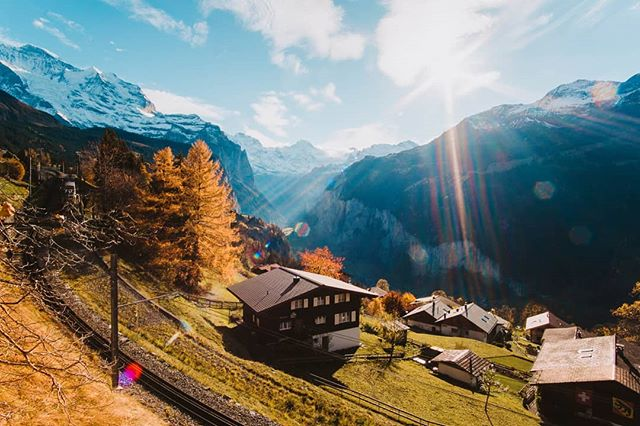building: (226, 265, 378, 355), (537, 332, 640, 426), (404, 291, 497, 348), (437, 344, 490, 389)
mountain: (325, 35, 640, 189), (1, 8, 259, 171), (245, 119, 397, 179)
sky: (31, 1, 640, 96)
train track: (54, 294, 274, 426)
tree: (1, 179, 80, 413), (177, 146, 241, 299), (131, 147, 192, 292), (95, 127, 145, 225)
